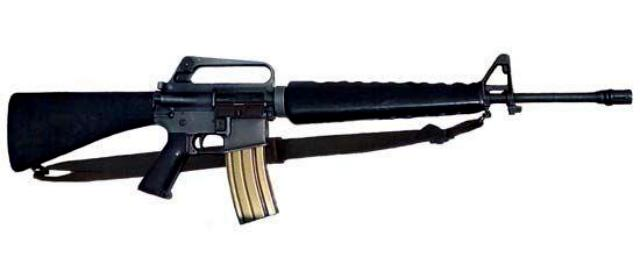rifle: (2, 36, 634, 232)
